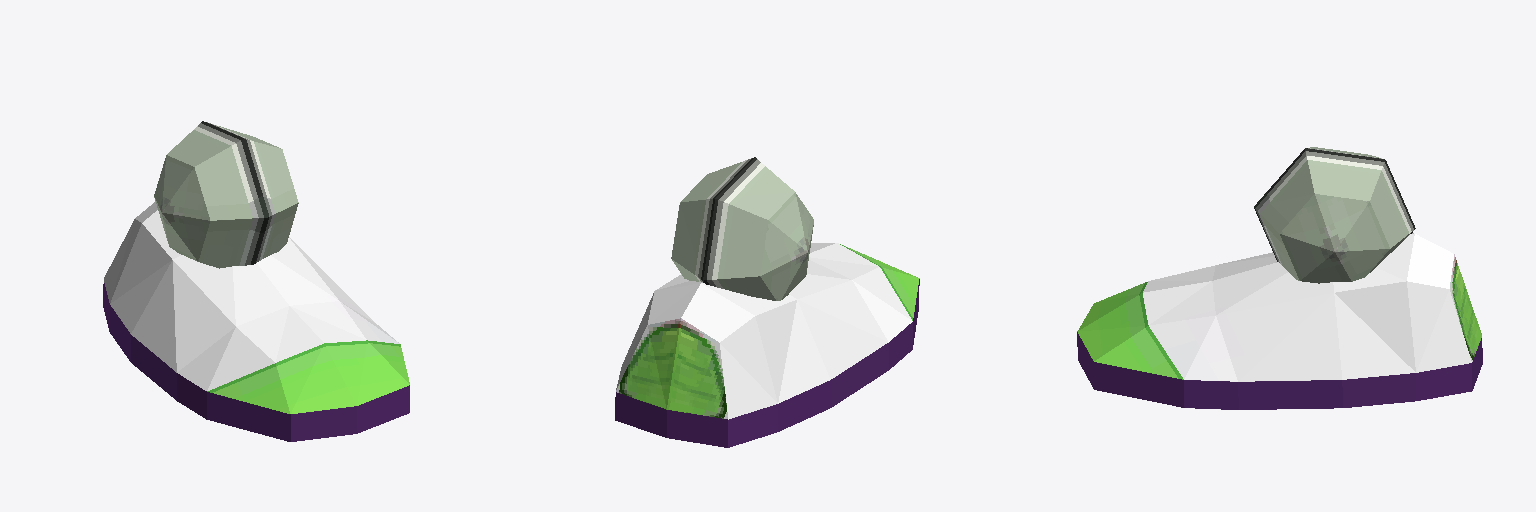
3 renders of one model, left to right at view 1: azimuth 30°, elevation 25°; view 2: azimuth 150°, elevation 25°; view 3: azimuth 270°, elevation 25°, orthographic.
Parts seen in each view (by area): view 1: buzzlightyRightFoot_buzzlighty.005; view 2: buzzlightyRightFoot_buzzlighty.005; view 3: buzzlightyRightFoot_buzzlighty.005.
Boxes of the visible parts, x1=… form: buzzlightyRightFoot_buzzlighty.005: x1=103, y1=121, x2=409, y2=441; buzzlightyRightFoot_buzzlighty.005: x1=615, y1=157, x2=919, y2=447; buzzlightyRightFoot_buzzlighty.005: x1=1077, y1=147, x2=1482, y2=409.
Bounding box in the file's own units: 0.1084 × 0.1119 × 0.1904.
Materials: 1 (1 with a texture image).